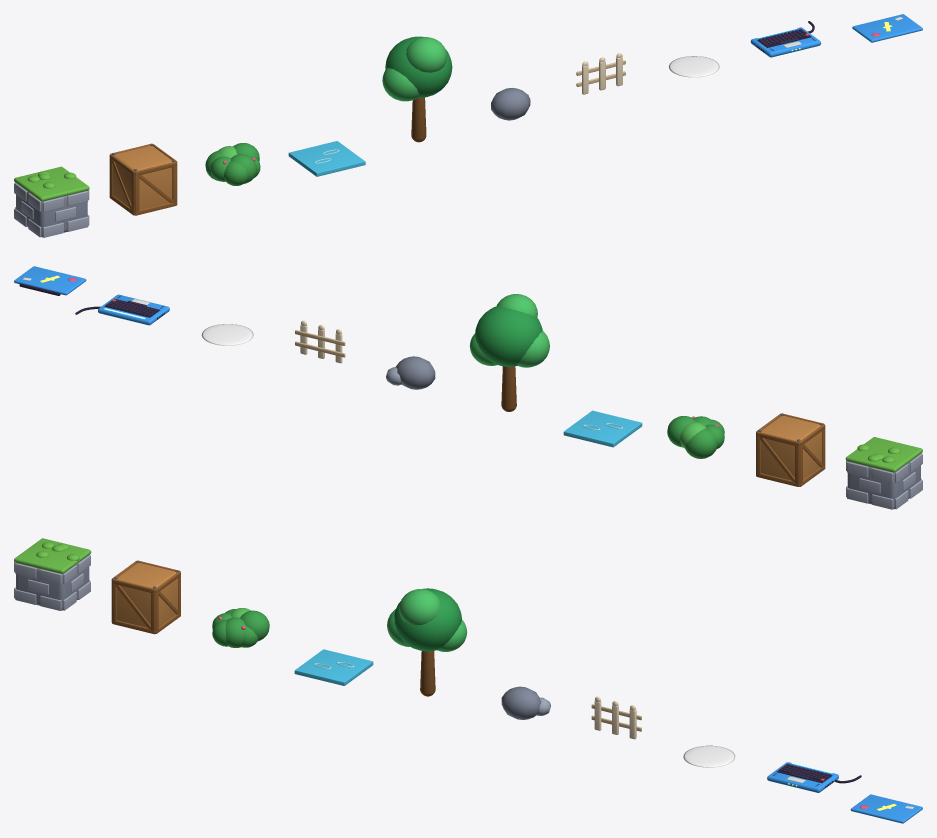
File: objekte.glb
3 renders of one model, top to bottom at view 1: azimuth 30°, elevation 25°; view 2: azimuth 150°, elevation 25°; view 3: azimuth 330°, elevation 25°, orthographic. The views are drawn at different scales.
Parts seen in each view (by area): view 1: Wand, Baum, Kiste, Busch, Wasser, Laptop, LaptopDeckel, Fels, Zaun, Spawn; view 2: Baum, Wand, Kiste, Busch, Wasser, Laptop, LaptopDeckel, Fels, Zaun, Spawn; view 3: Baum, Wand, Kiste, Busch, Wasser, Laptop, Fels, LaptopDeckel, Zaun, Spawn.
Part boxes in pixels (<box>): Wand: <box>14,166,89,237</box>; Baum: <box>382,36,452,142</box>; Kiste: <box>109,143,177,215</box>; Busch: <box>205,143,260,185</box>; Wasser: <box>288,141,365,176</box>; Laptop: <box>750,21,821,57</box>; LaptopDeckel: <box>852,14,922,42</box>; Fels: <box>491,88,530,120</box>; Zaun: <box>576,53,625,94</box>; Spawn: <box>669,56,719,77</box>; Baum: <box>469,294,549,411</box>; Wand: <box>845,437,922,509</box>; Kiste: <box>756,413,825,486</box>; Busch: <box>667,416,724,458</box>; Wasser: <box>563,410,642,447</box>; Laptop: <box>75,294,169,325</box>; LaptopDeckel: <box>14,266,86,295</box>; Fels: <box>386,356,435,389</box>; Zaun: <box>295,320,345,363</box>; Spawn: <box>201,324,253,345</box>; Baum: <box>387,588,467,696</box>; Wand: <box>14,538,91,610</box>; Kiste: <box>111,560,180,634</box>; Busch: <box>212,608,269,647</box>; Wasser: <box>294,649,373,685</box>; Laptop: <box>767,762,861,792</box>; Fels: <box>501,686,550,719</box>; LaptopDeckel: <box>850,794,922,823</box>; Zaun: <box>591,696,641,739</box>; Spawn: <box>683,745,735,767</box>.
Size of the model in its own units: 28.66 by 3.36 by 2.09.
